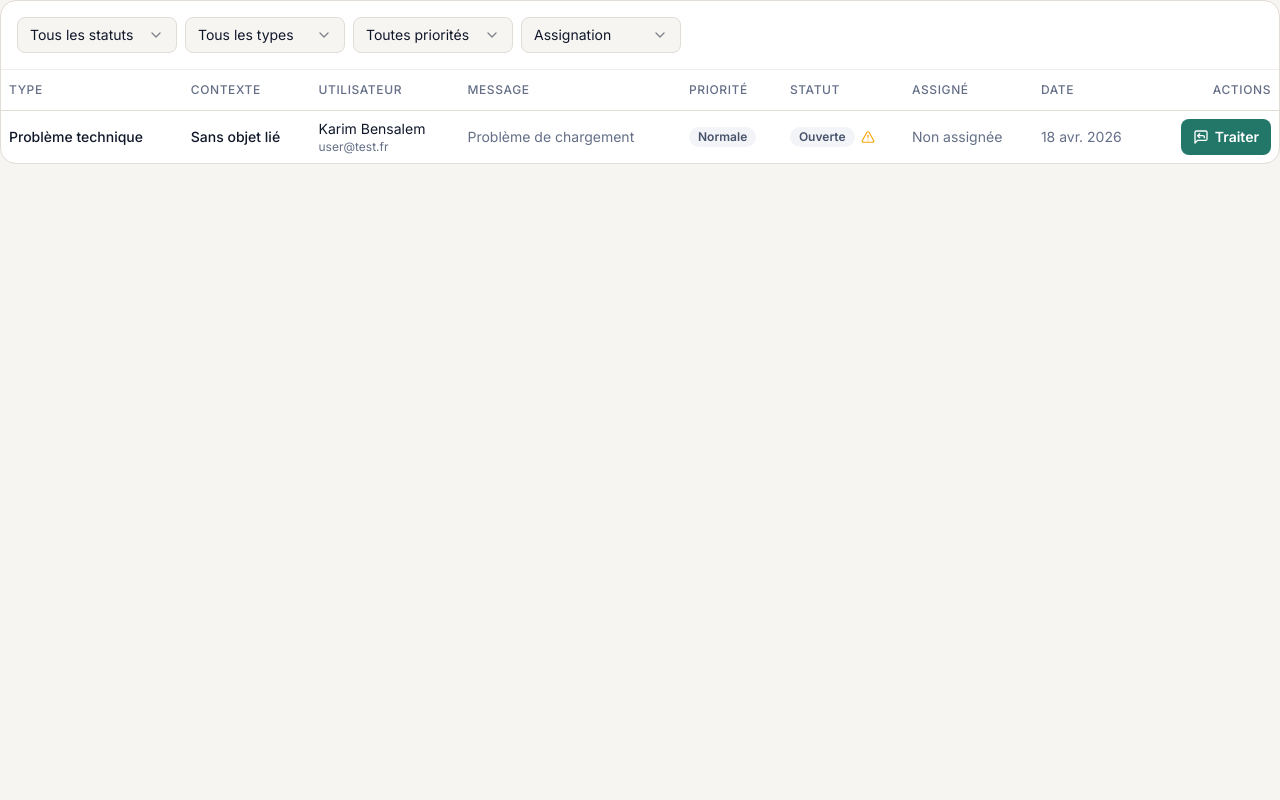
Test case: DeskRequestsTable › désactive le bouton d'envoi quand la réponse est vide
Step 1. Click the button "Traiter" → [1226, 136], box [1181, 118, 1271, 154]
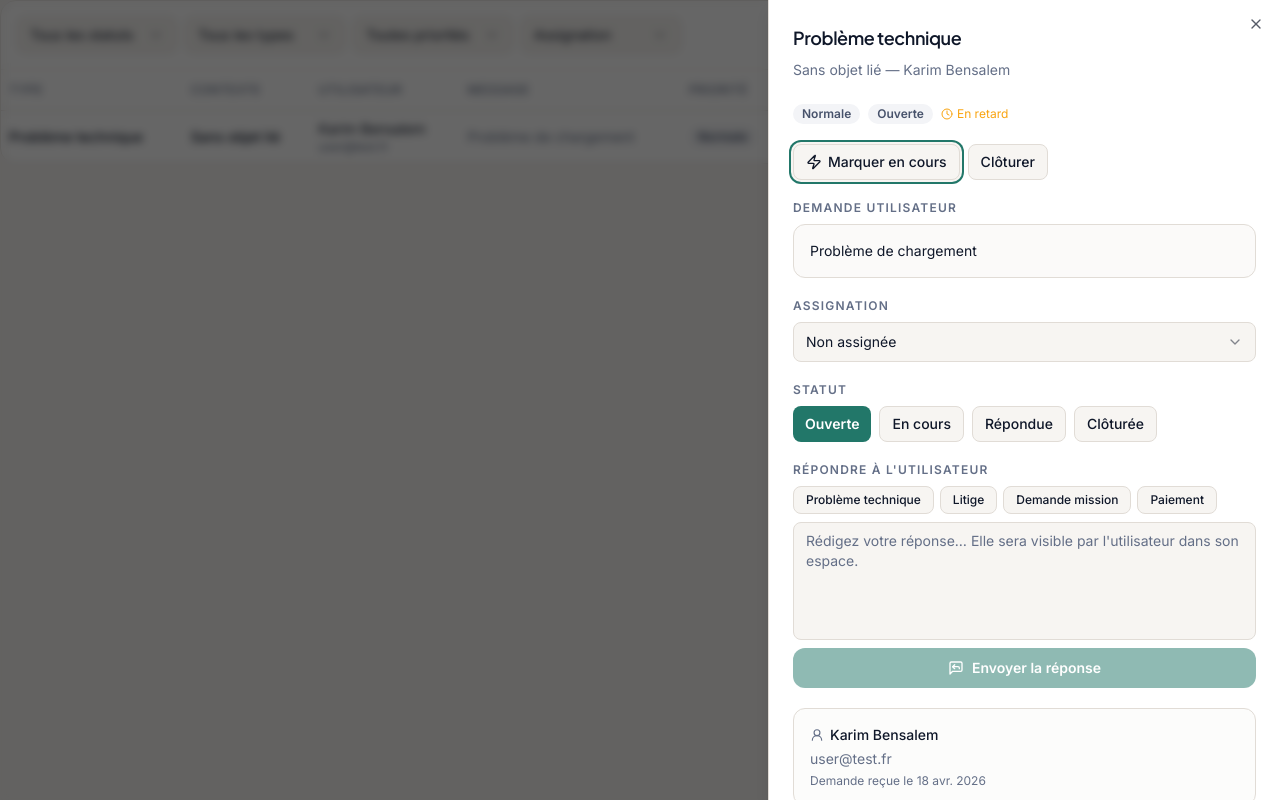
Expected: the button "Envoyer la réponse" is disabled, [793, 648, 1256, 688]
